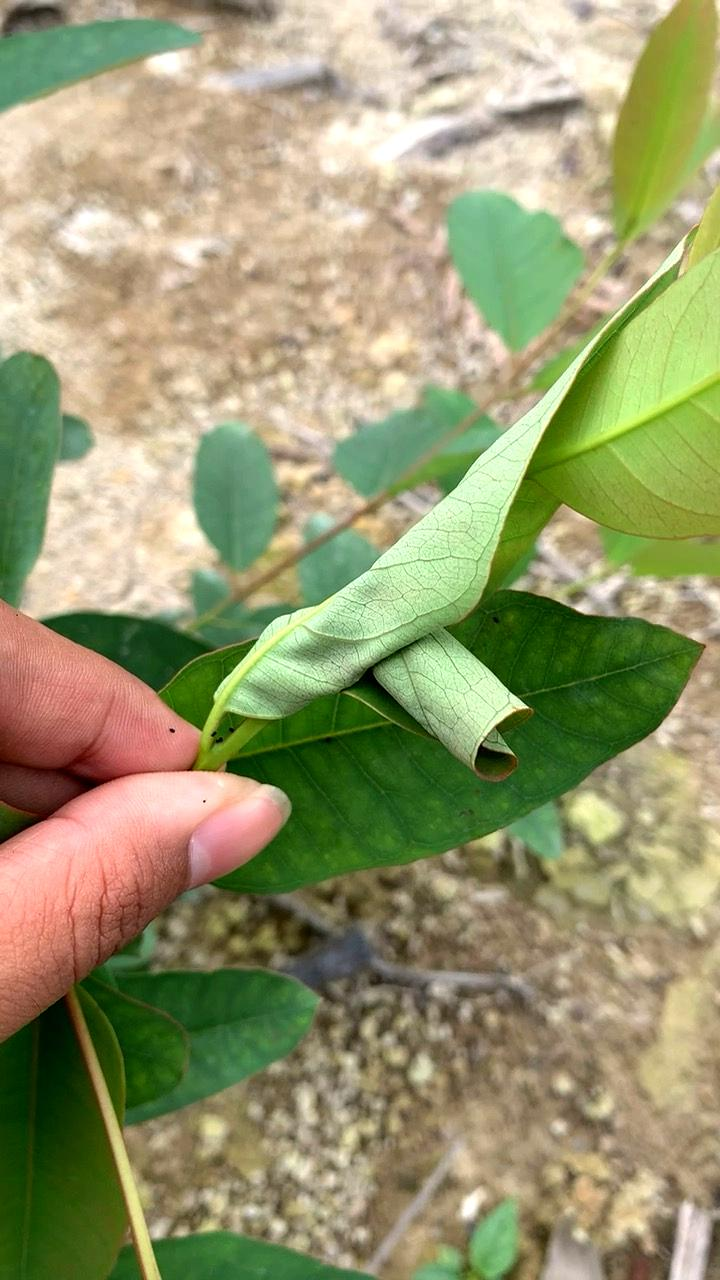Leaf Roller - Leaf: (288, 533, 559, 816)
